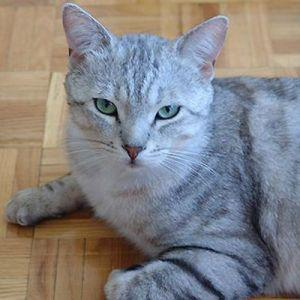bengal: (51, 1, 232, 170)
